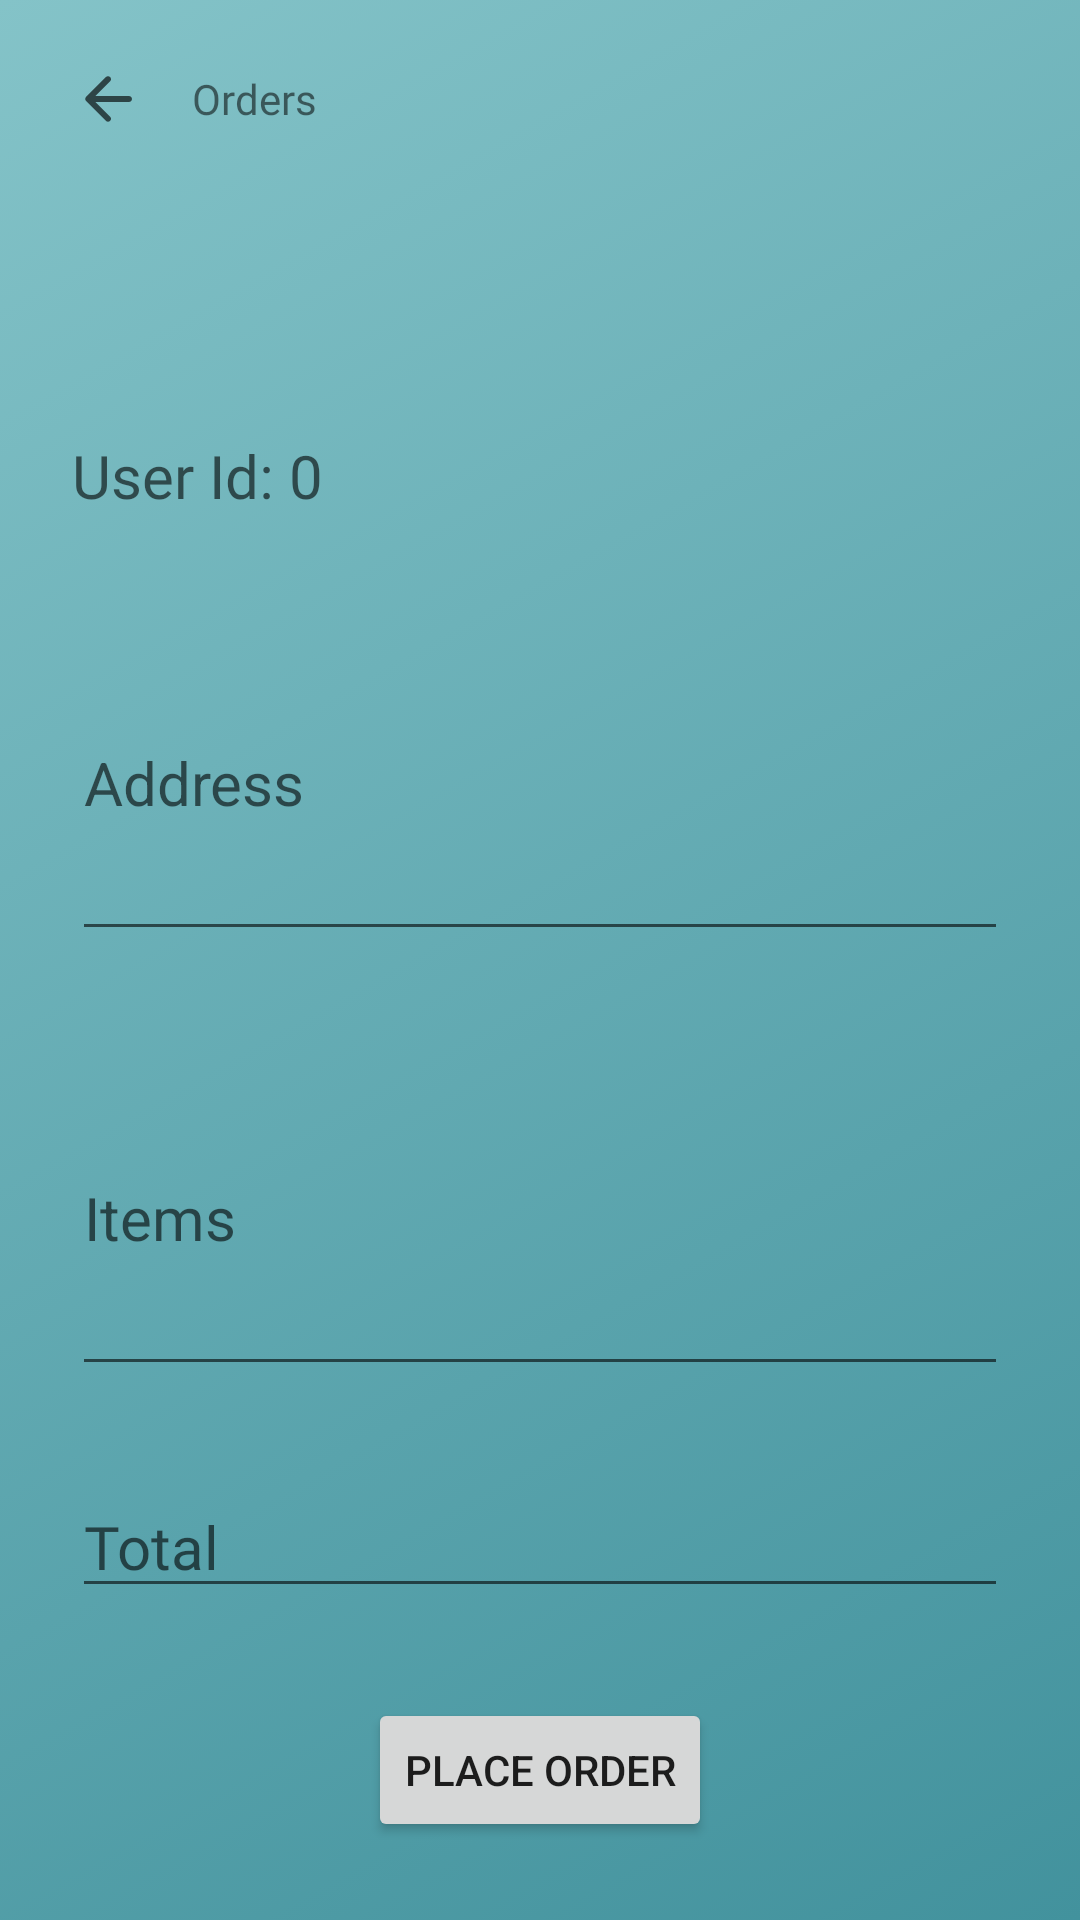

Screen size 1080px x 1920px. Icon name, then its box in pixels as bbox=(x1, y1, x2, y2):
back arrow: bbox=(85, 76, 132, 122)
